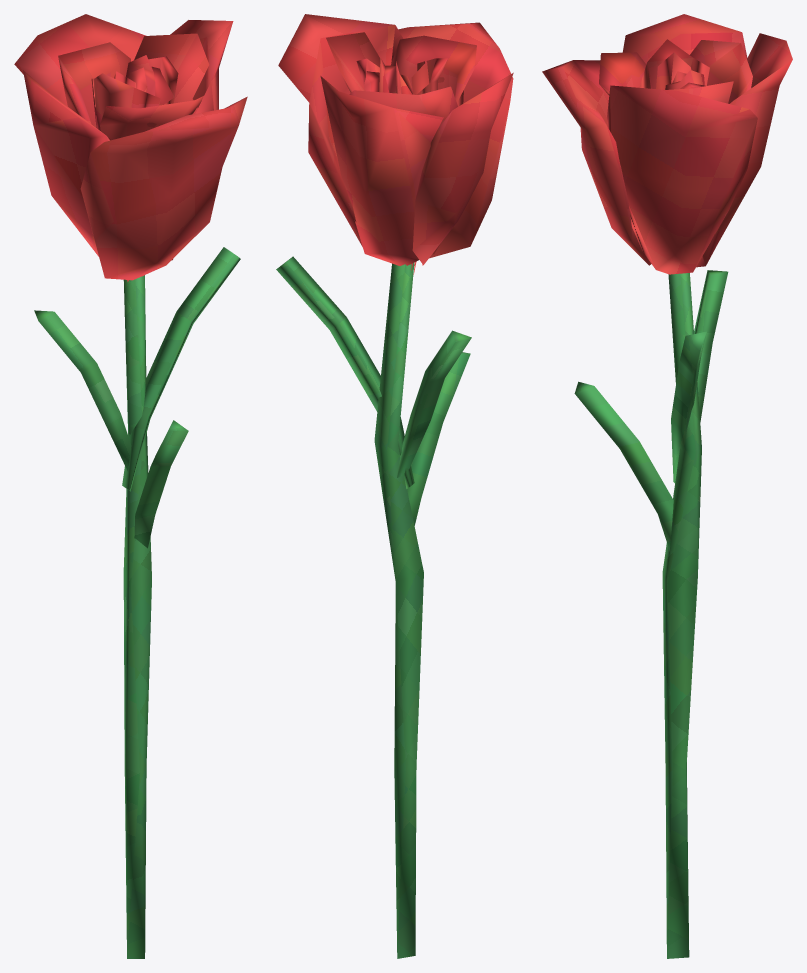
File: red_tulip.fbx
3 views of the same model, side by side, from view 1: azimuth 30°, elevation 25°; view 2: azimuth 150°, elevation 25°; view 3: azimuth 270°, elevation 25° (orthographic).
Parts seen in each view (by area): view 1: red_tulip; view 2: red_tulip; view 3: red_tulip.
Boxes of the visible parts, x1,y1,x2,y2 form: red_tulip: [14, 14, 247, 958]; red_tulip: [276, 14, 513, 958]; red_tulip: [542, 14, 792, 958].
Size of the model in its own units: 12.21 by 49.82 by 12.4.
